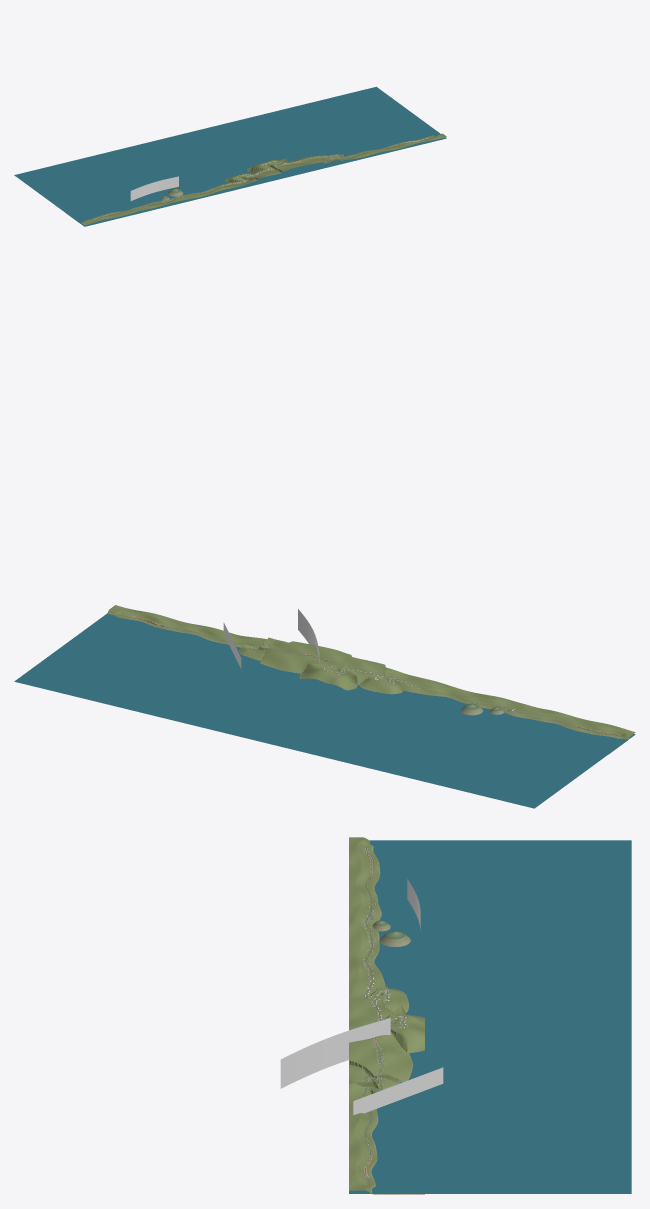
The model's file is poggio.glb.
The picture shows the model from 3 angles, top to bottom: view 1: azimuth 30°, elevation 25°; view 2: azimuth 150°, elevation 25°; view 3: azimuth 270°, elevation 25°; orthographic projection. The views are drawn at different scales.
Parts seen in each view (by area): view 1: LigurianSea_026, LigurianSea_019, LigurianSea_037, LigurianSea_025, LigurianSea_046, LigurianSea_049, LigurianSea_001, LigurianSea_007, LigurianSea_011, LigurianSea_006, LigurianSea_010, LigurianSea_003 (+16 smaller); view 2: LigurianSea_026, LigurianSea_019, LigurianSea_037, LigurianSea_025, LigurianSea_007, LigurianSea_049, LigurianSea_046, LigurianSea_011, LigurianSea_001, LigurianSea_010, LigurianSea_006, LigurianSea_003 (+18 smaller); view 3: LigurianSea_026, LigurianSea_019, LigurianSea_037, LigurianSea_025, LigurianSea_046, LigurianCapes, LigurianSea_049, LigurianSea_007, LigurianSea_011, LigurianSea_001, LigurianSea_010, LigurianSea_003 (+27 smaller).
Boxes of the visible parts, <box> form: LigurianSea_026: <box>211,118,317,178</box>; LigurianSea_019: <box>149,134,249,193</box>; LigurianSea_037: <box>268,106,366,164</box>; LigurianSea_025: <box>181,127,280,185</box>; LigurianSea_046: <box>338,92,425,147</box>; LigurianSea_049: <box>360,86,446,142</box>; LigurianSea_001: <box>21,169,107,225</box>; LigurianSea_007: <box>83,154,170,209</box>; LigurianSea_011: <box>118,145,204,201</box>; LigurianSea_006: <box>69,158,152,213</box>; LigurianSea_010: <box>101,150,187,205</box>; LigurianSea_003: <box>49,163,132,218</box>; LigurianSea_026: <box>199,669,328,739</box>; LigurianSea_019: <box>297,690,430,761</box>; LigurianSea_037: <box>129,643,253,719</box>; LigurianSea_025: <box>252,684,374,749</box>; LigurianSea_007: <box>410,712,525,784</box>; LigurianSea_049: <box>14,613,131,687</box>; LigurianSea_046: <box>45,621,160,694</box>; LigurianSea_011: <box>361,699,467,772</box>; LigurianSea_001: <box>502,734,616,806</box>; LigurianSea_010: <box>386,707,495,778</box>; LigurianSea_006: <box>436,718,546,789</box>; LigurianSea_003: <box>465,724,573,796</box>; LigurianSea_026: <box>409,1032,631,1068</box>; LigurianSea_019: <box>381,972,631,1002</box>; LigurianSea_037: <box>377,1088,631,1115</box>; LigurianSea_025: <box>406,1003,631,1032</box>; LigurianSea_046: <box>371,1156,631,1173</box>; LigurianCapes: <box>280,879,443,1114</box>; LigurianSea_049: <box>349,1177,631,1193</box>; LigurianSea_007: <box>379,907,631,924</box>; LigurianSea_011: <box>376,941,631,958</box>; LigurianSea_001: <box>373,847,631,862</box>; LigurianSea_010: <box>378,925,631,941</box>; LigurianSea_003: <box>374,874,631,887</box>.
Size of the model in its own units: 12551 by 4090 by 7107.
